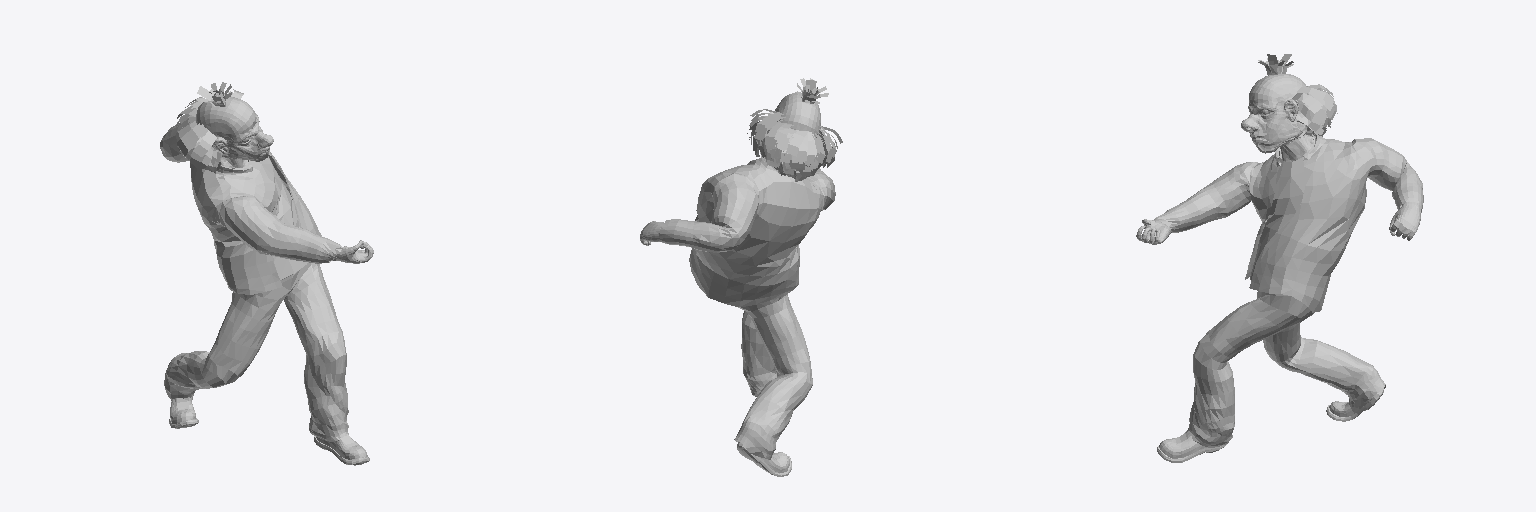
Rendered from Attack01 (30).obj.
The picture shows the model from 3 angles: view 1: azimuth 30°, elevation 25°; view 2: azimuth 150°, elevation 25°; view 3: azimuth 270°, elevation 25°; orthographic projection.
Visible parts, largest first — view 1: pants_low, jacket, head, hair, shirt, boots_02, boots_01, hand_right; view 2: jacket, pants_low, hair, head, boots_01; view 3: jacket, pants_low, head, shirt, hair, boots_02, hand_left, boots_01, hand_right, neck.
Boxes of the visible parts, box(x1,y1,x2,y2) form: pants_low: box(164, 262, 348, 441); jacket: box(160, 124, 342, 294); head: box(196, 97, 273, 161); hair: box(175, 82, 243, 172); shirt: box(221, 156, 307, 279); boots_02: box(314, 434, 369, 465); boots_01: box(169, 397, 198, 428); hand_right: box(329, 240, 373, 263); jacket: box(659, 158, 835, 306); pants_low: box(734, 294, 812, 459); hair: box(747, 78, 842, 181); head: box(770, 92, 824, 136); boots_01: box(737, 442, 791, 476); jacket: box(1154, 130, 1423, 312); pants_low: box(1186, 291, 1385, 447); head: box(1241, 74, 1307, 153); shirt: box(1250, 134, 1315, 279); hair: box(1258, 54, 1337, 136); boots_02: box(1157, 431, 1226, 462); hand_left: box(1389, 202, 1420, 240); boots_01: box(1326, 388, 1383, 421); hand_right: box(1136, 219, 1171, 244); neck: box(1280, 134, 1313, 161).
Bounding box in the file's own units: 69.79 × 174 × 124.